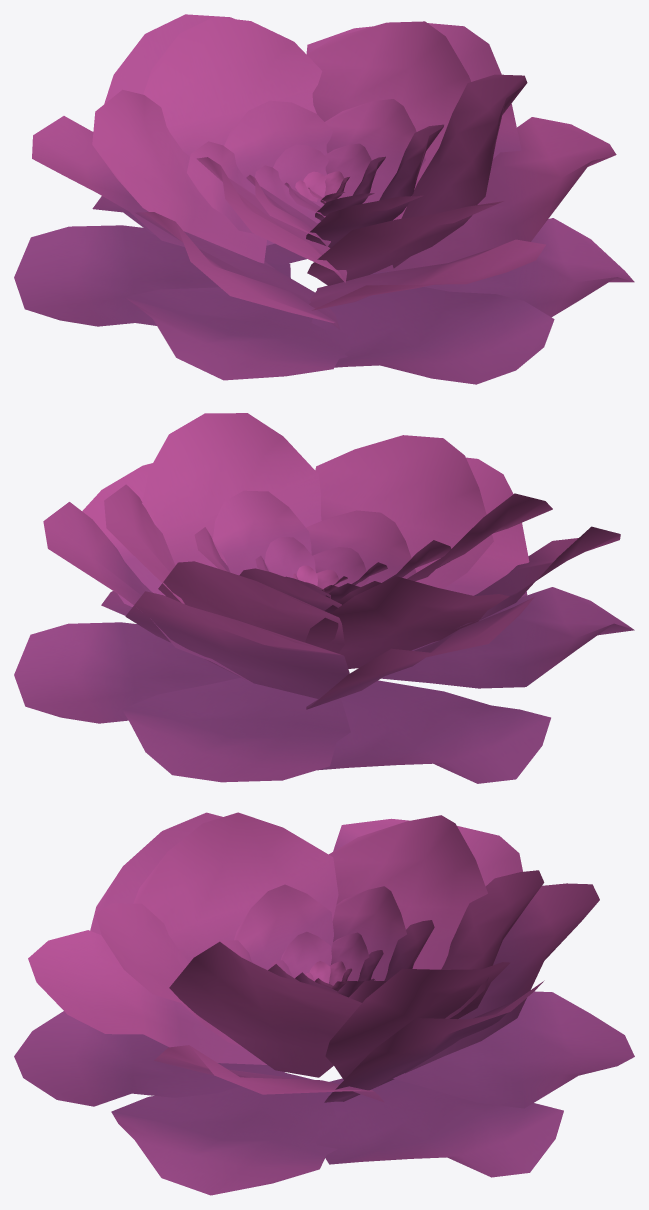
The model's file is Alface.fbx.
The picture shows the model from 3 angles, top to bottom: view 1: azimuth 30°, elevation 25°; view 2: azimuth 150°, elevation 25°; view 3: azimuth 270°, elevation 25°; orthographic projection.
Parts seen in each view (by area): view 1: Plane.005; view 2: Plane.005; view 3: Plane.005.
Boxes of the visible parts, x1,y1,x2,y2 form: Plane.005: (14, 14, 634, 384); Plane.005: (14, 413, 634, 783); Plane.005: (14, 812, 634, 1195).
Bounding box in the file's own units: 75.27 × 28.38 × 80.69.
1 material, 1 textured.
